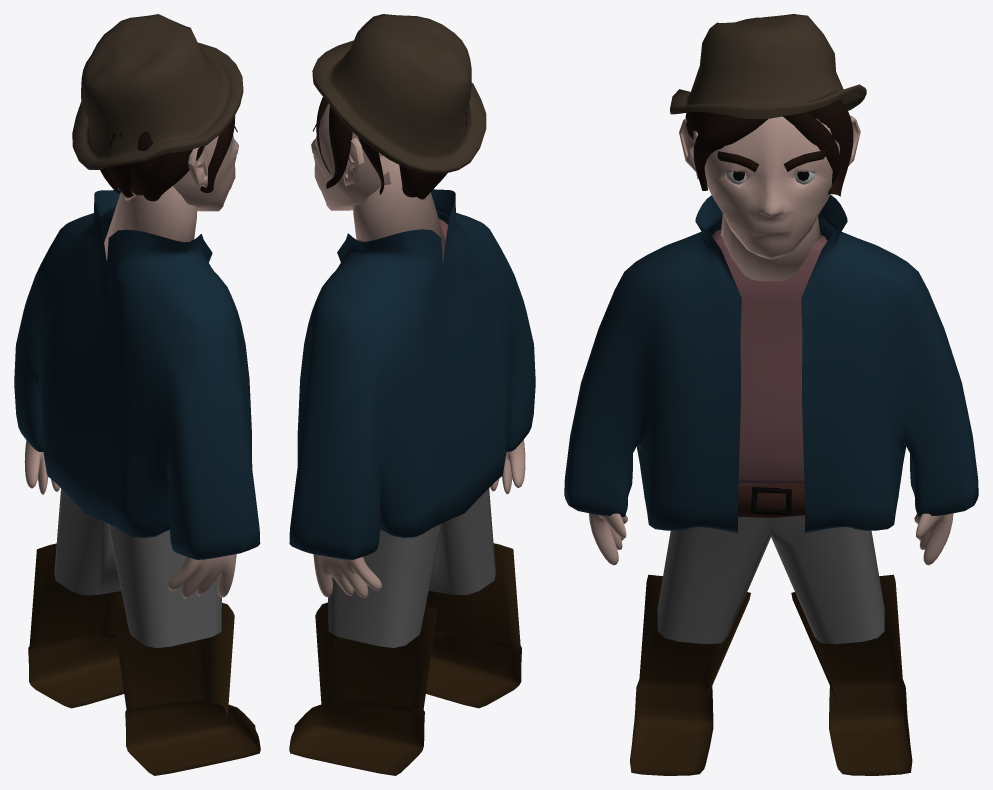
Rendered from character1.fbx.
The picture shows the model from 3 angles, left to right: view 1: azimuth 30°, elevation 25°; view 2: azimuth 150°, elevation 25°; view 3: azimuth 270°, elevation 25°; orthographic projection. The views are drawn at different scales.
Parts seen in each view (by area): view 1: Cube.057, Cube.032, Sphere.013, Cube.055, Cylinder.008, Cube.054, Object_low.007, NurbsPath.021, NurbsPath.033, NurbsPath.023, Plane.029, NurbsPath.032; view 2: Cube.057, Cube.032, Sphere.013, Cube.055, Cylinder.008, Cube.054, Object_low.007, NurbsPath.037, Plane.029, NurbsPath.034; view 3: Cube.057, Cube.032, Cube.055, Cube.058, Sphere.013, Object_low.007, Cube.054, Cylinder.008, NurbsPath.023, Cube.060, NurbsPath.037, NurbsPath.031 (+2 smaller).
Part boxes in pixels (box(x1,y1,x2,y2)): Cube.057: box(14, 189, 260, 559); Cube.032: box(28, 543, 260, 775); Sphere.013: box(72, 14, 243, 169); Cube.055: box(54, 488, 221, 648); Cylinder.008: box(104, 186, 197, 259); Cube.054: box(24, 440, 236, 598); Object_low.007: box(124, 134, 238, 211); NurbsPath.021: box(143, 146, 204, 201); NurbsPath.033: box(130, 131, 162, 195); NurbsPath.023: box(200, 116, 235, 192); Plane.029: box(188, 145, 208, 187); NurbsPath.032: box(106, 133, 133, 197); Cube.057: box(289, 189, 535, 559); Cube.032: box(289, 543, 521, 775); Sphere.013: box(312, 14, 486, 173); Cube.055: box(328, 488, 495, 647); Cylinder.008: box(353, 156, 445, 258); Cube.054: box(313, 439, 525, 598); Object_low.007: box(311, 103, 425, 210); NurbsPath.037: box(326, 106, 352, 188); Plane.029: box(343, 137, 364, 186); NurbsPath.034: box(399, 165, 426, 197); Cube.057: box(564, 195, 978, 532); Cube.032: box(630, 574, 912, 775); Cube.055: box(657, 515, 884, 644); Cube.058: box(712, 230, 827, 485); Sphere.013: box(670, 14, 866, 119); Object_low.007: box(704, 116, 839, 259); Cube.054: box(589, 513, 953, 565); Cylinder.008: box(720, 213, 820, 281); NurbsPath.023: box(693, 113, 767, 190); Cube.060: box(737, 484, 805, 517); NurbsPath.037: box(806, 99, 853, 196); NurbsPath.031: box(783, 112, 840, 184).
Size of the model in its own units: 41.77 by 176 by 90.19.
